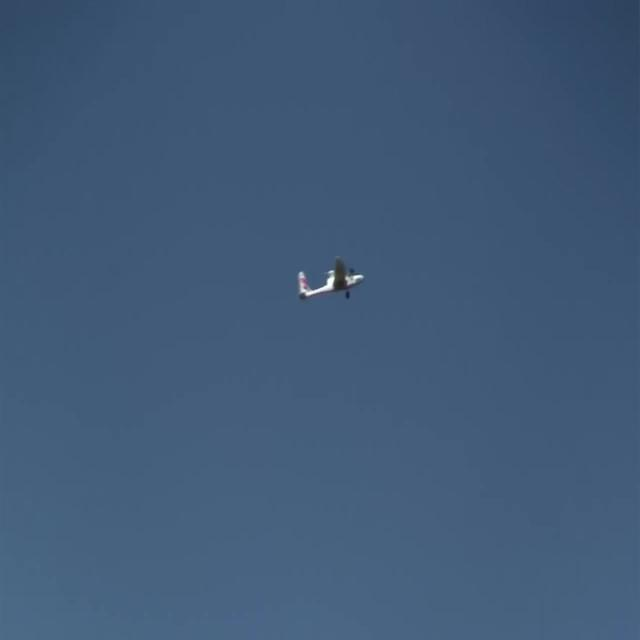iha: (322, 252, 326, 307)
